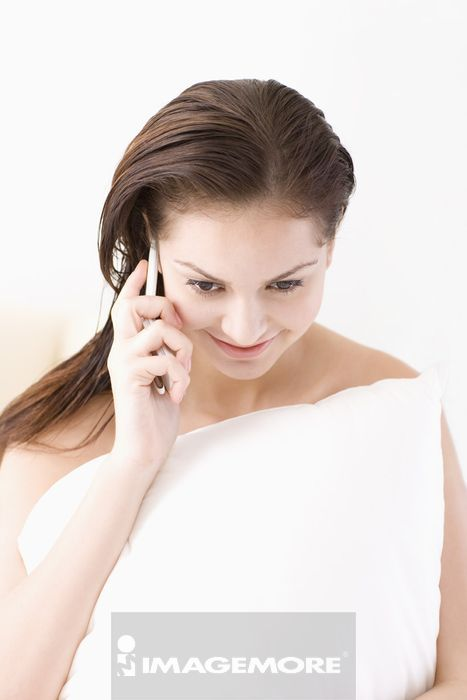phone: (135, 235, 182, 392)
talk: (108, 211, 321, 468)
